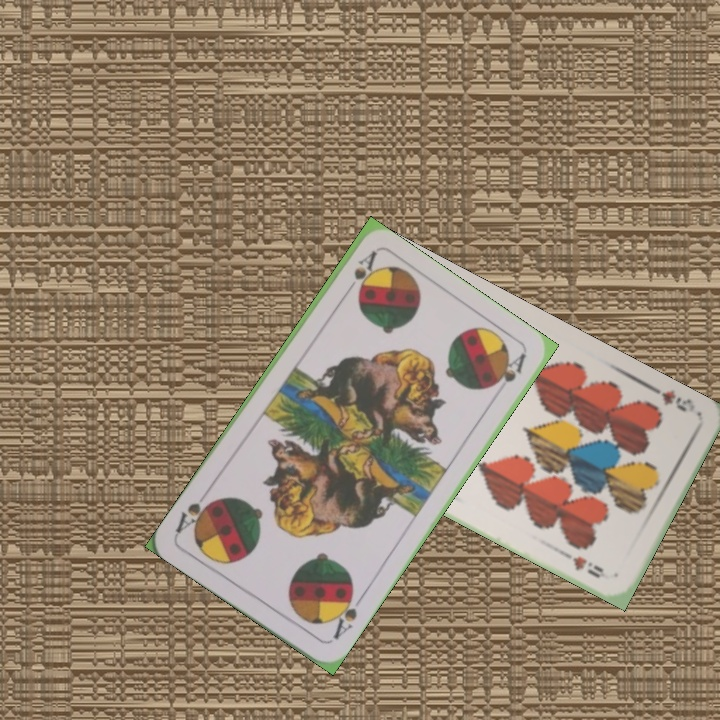H9: (645, 381, 698, 415)
SA: (327, 586, 366, 643), (349, 248, 379, 294)
